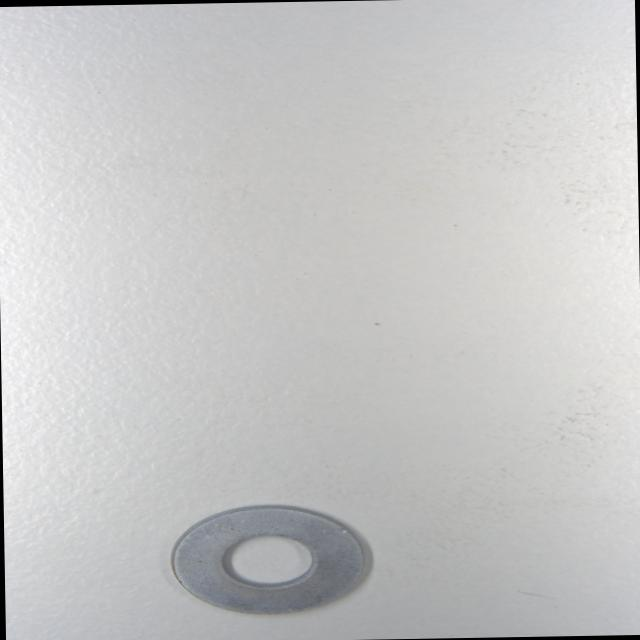washer: (166, 501, 368, 617)
